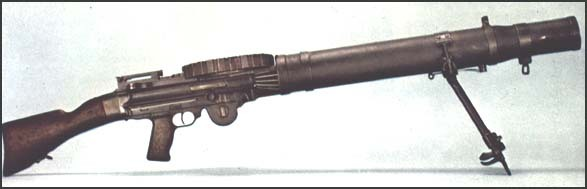rifle: (2, 14, 579, 176)
